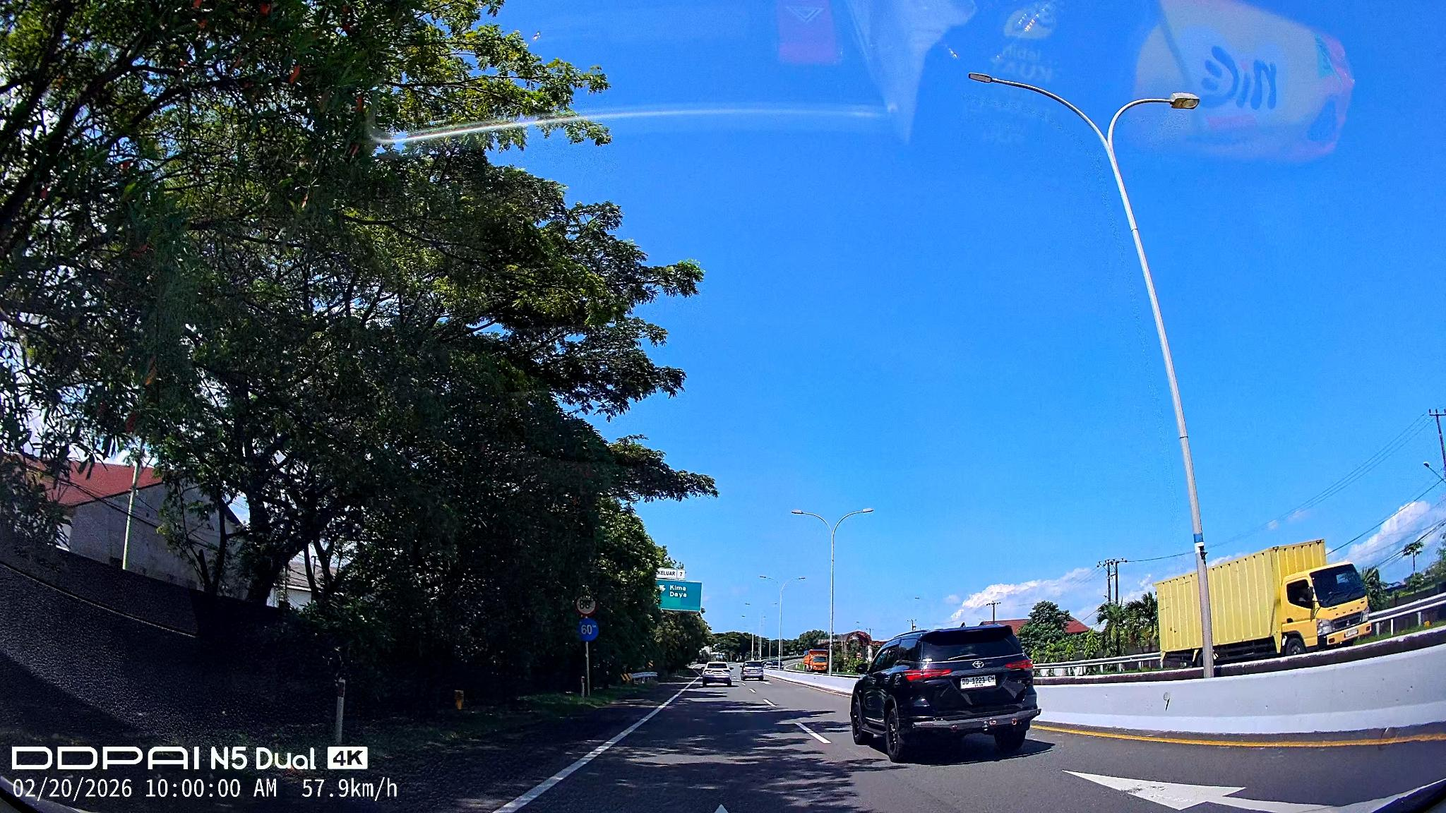rambu_teks: (657, 579, 702, 612)
